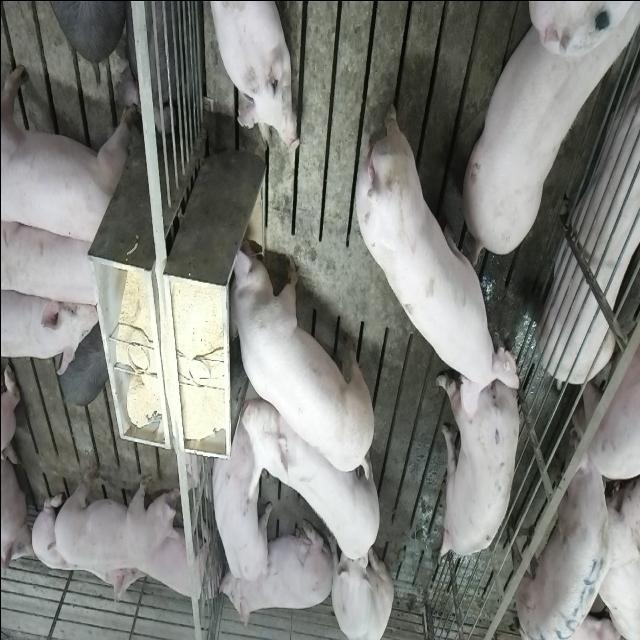Feeding: (219, 234, 370, 478)
Sitting: (328, 529, 392, 639)
Standing: (348, 91, 514, 401), (458, 6, 634, 264), (1, 55, 133, 248), (241, 386, 385, 562), (516, 421, 616, 640), (434, 368, 520, 564), (54, 459, 184, 569), (2, 211, 104, 307), (0, 286, 101, 374)
Sternal_lying: (30, 482, 142, 608), (208, 0, 298, 151), (218, 516, 328, 628), (137, 518, 213, 606)
